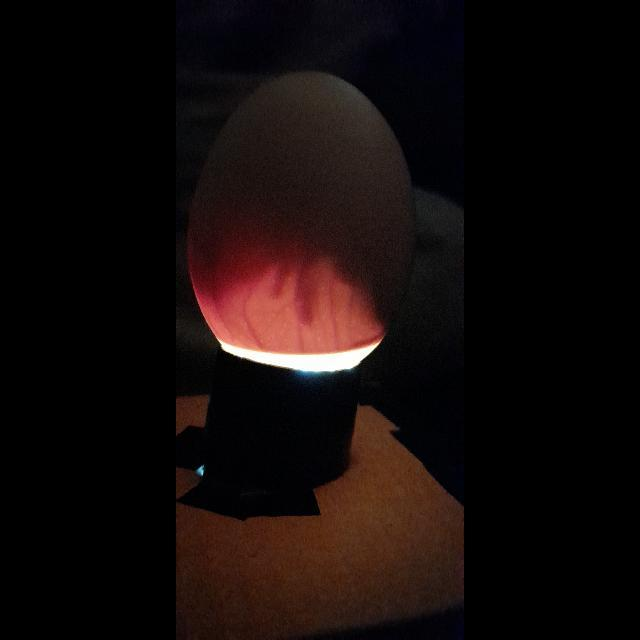Fertile: (184, 75, 400, 382)
